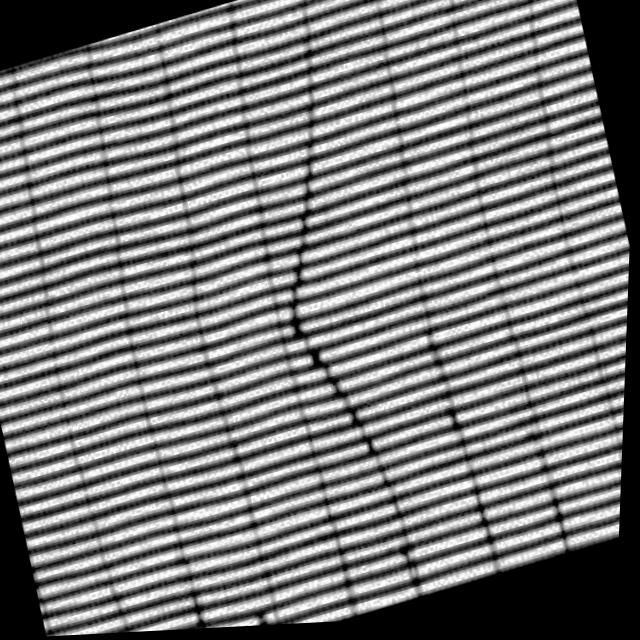Stitch: (196, 87, 467, 525)
